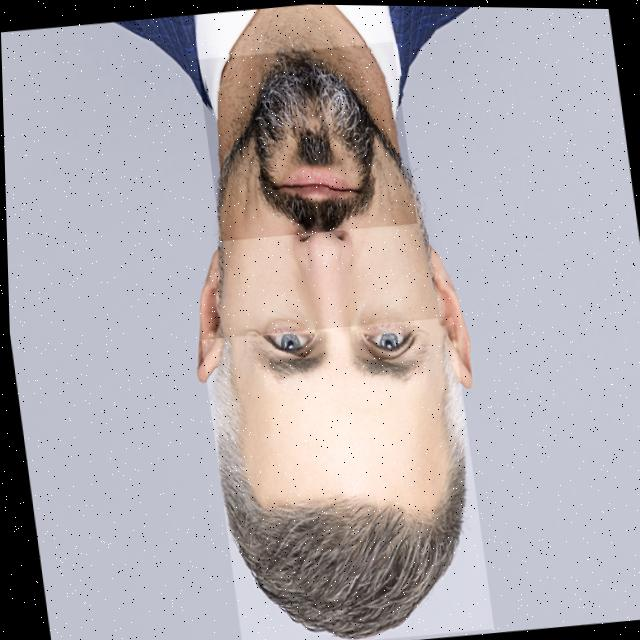beard: (216, 49, 413, 229)
hair: (212, 336, 465, 639)
